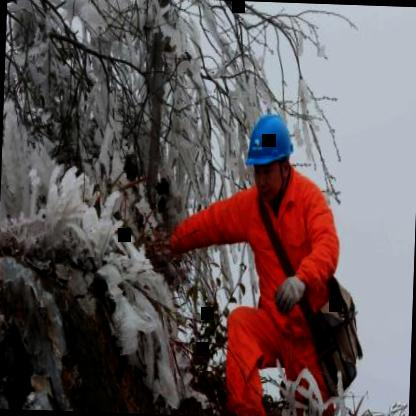helmet: (240, 104, 300, 209)
